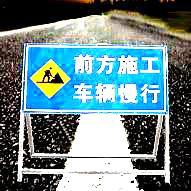sign: (22, 43, 167, 114)
